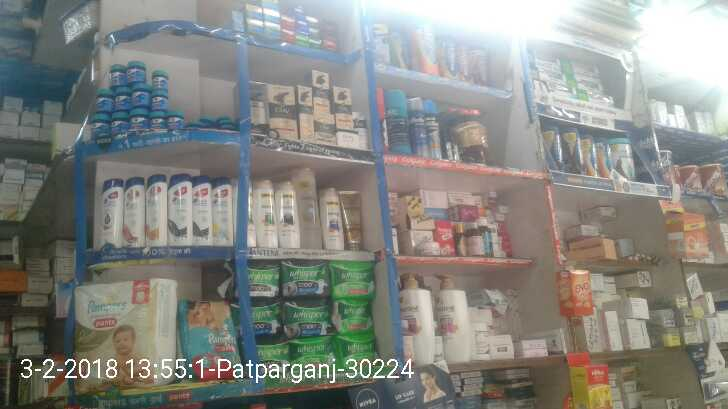beauty: (398, 277, 432, 364), (438, 275, 468, 360), (295, 172, 323, 247), (267, 81, 298, 136), (252, 182, 277, 248), (167, 176, 191, 243), (123, 180, 146, 249), (100, 180, 123, 246), (320, 186, 344, 248), (278, 185, 300, 248), (146, 177, 166, 246), (193, 175, 213, 242), (213, 180, 233, 245), (334, 86, 352, 126), (313, 111, 336, 141), (314, 70, 329, 108)
pharmacy: (77, 287, 176, 387), (177, 300, 245, 377), (285, 300, 331, 338), (331, 263, 376, 298), (283, 263, 329, 297), (333, 302, 376, 333), (336, 337, 379, 368), (291, 341, 336, 369), (250, 300, 283, 338), (246, 263, 280, 298), (257, 343, 290, 371), (131, 88, 151, 110), (96, 90, 113, 112), (128, 63, 146, 83), (107, 66, 125, 85), (91, 116, 108, 136), (151, 70, 167, 90), (114, 91, 128, 113), (152, 95, 168, 113), (130, 116, 148, 131), (113, 116, 129, 132), (149, 114, 164, 128), (168, 116, 184, 128)
